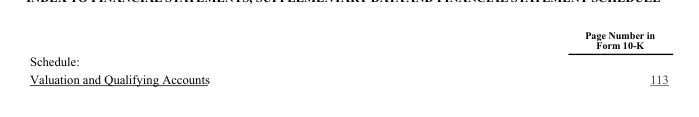table: (28, 29, 667, 85)
table column: (28, 29, 396, 85), (396, 29, 667, 85)
table column header: (28, 29, 667, 52)
table projected row header: (28, 52, 667, 69)
table row: (28, 29, 667, 52), (28, 52, 667, 69), (28, 69, 667, 85)
